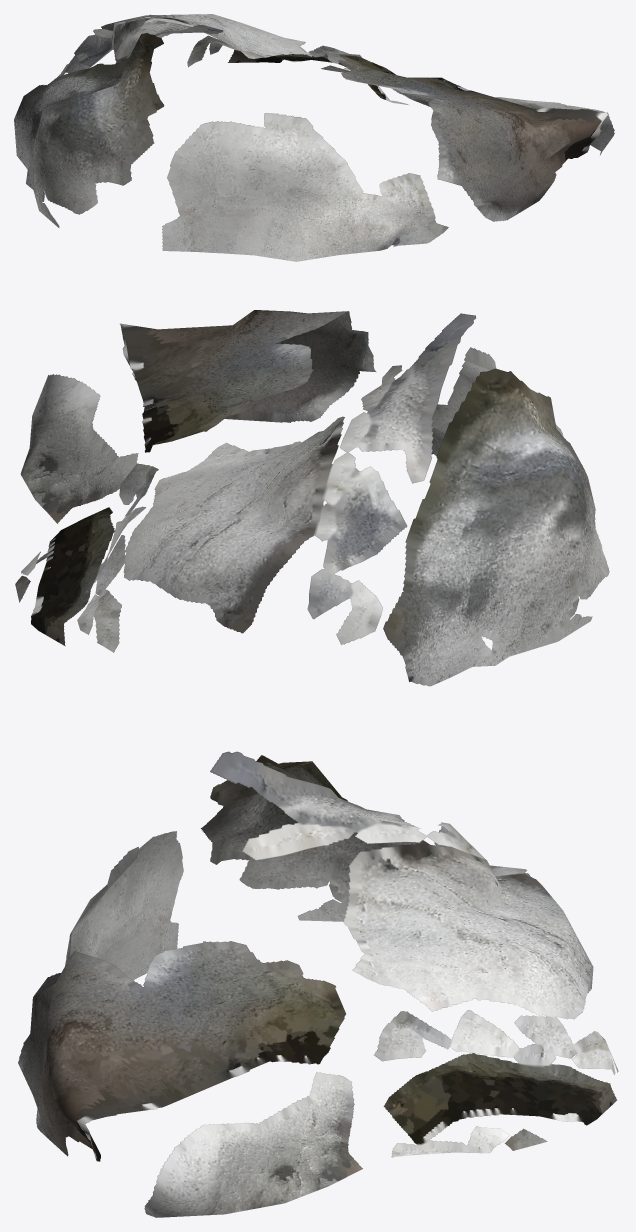
Rendered from flo_model.fbx.
The picture shows the model from 3 angles, top to bottom: view 1: azimuth 30°, elevation 25°; view 2: azimuth 150°, elevation 25°; view 3: azimuth 270°, elevation 25°; orthographic projection. The views are drawn at different scales.
Parts seen in each view (by area): view 1: rock_low_rock_1.001; view 2: rock_low_rock_1.001; view 3: rock_low_rock_1.001.
Boxes of the visible parts, <box> form: rock_low_rock_1.001: <box>14,14,614,261</box>; rock_low_rock_1.001: <box>15,310,609,686</box>; rock_low_rock_1.001: <box>18,751,618,1217</box>.
Bounding box in the file's own units: 1318 × 522 × 1103.
